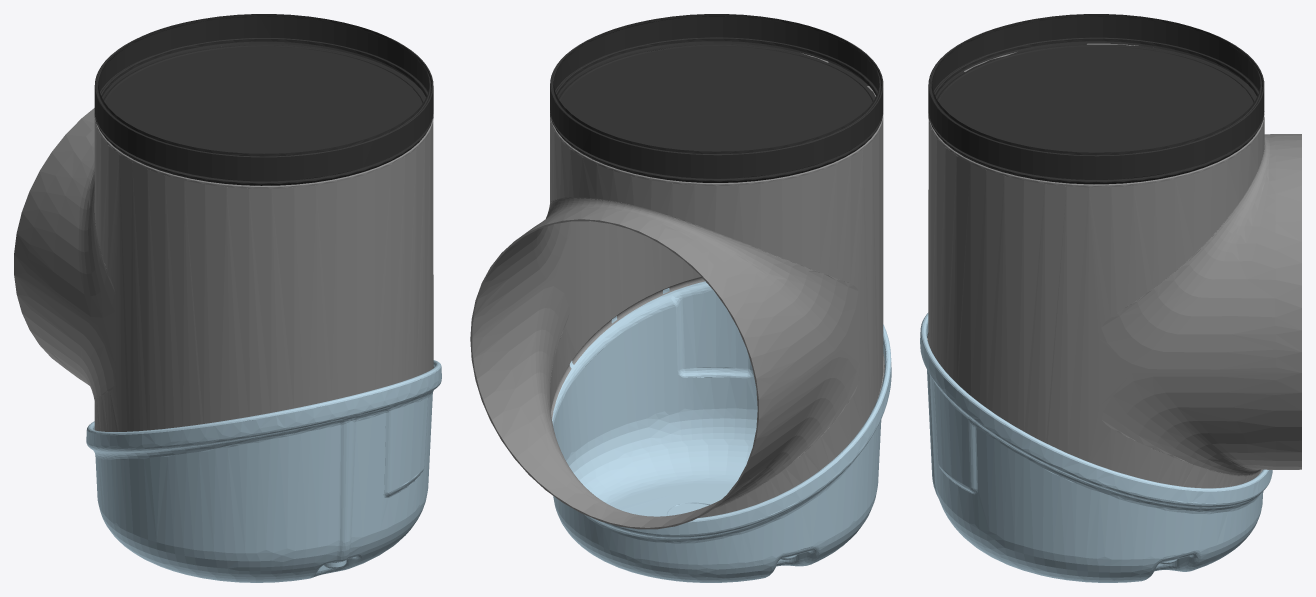
File: wrist2.glb
3 views of the same model, side by side, from view 1: azimuth 30°, elevation 25°; view 2: azimuth 150°, elevation 25°; view 3: azimuth 270°, elevation 25° (orthographic).
Parts seen in each view (by area): view 1: eSeries_UR5e_049, eSeries_UR5e_029, eSeries_UR5e_002; view 2: eSeries_UR5e_049, eSeries_UR5e_029, eSeries_UR5e_002; view 3: eSeries_UR5e_049, eSeries_UR5e_002, eSeries_UR5e_029.
Boxes of the visible parts, x1,y1,x2,y2 form: eSeries_UR5e_049: (14, 108, 434, 431); eSeries_UR5e_029: (86, 360, 441, 582); eSeries_UR5e_002: (94, 14, 433, 185); eSeries_UR5e_049: (470, 53, 884, 529); eSeries_UR5e_029: (552, 281, 891, 582); eSeries_UR5e_002: (550, 14, 883, 182); eSeries_UR5e_049: (927, 43, 1301, 488); eSeries_UR5e_002: (928, 14, 1264, 184); eSeries_UR5e_029: (920, 313, 1272, 582).
Bounding box in the file's own units: 0.0787 × 0.1099 × 0.0852.
